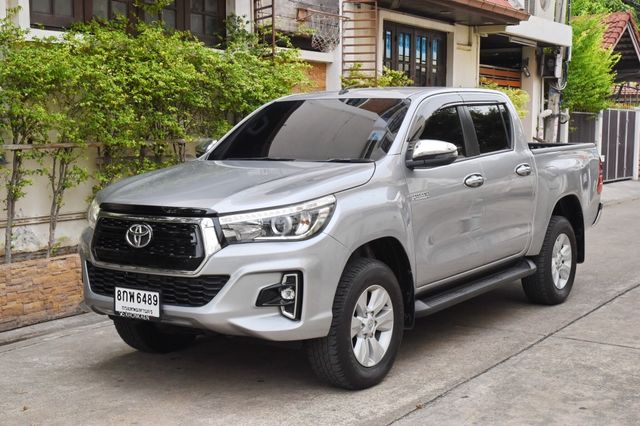pickup: (78, 83, 606, 391)
